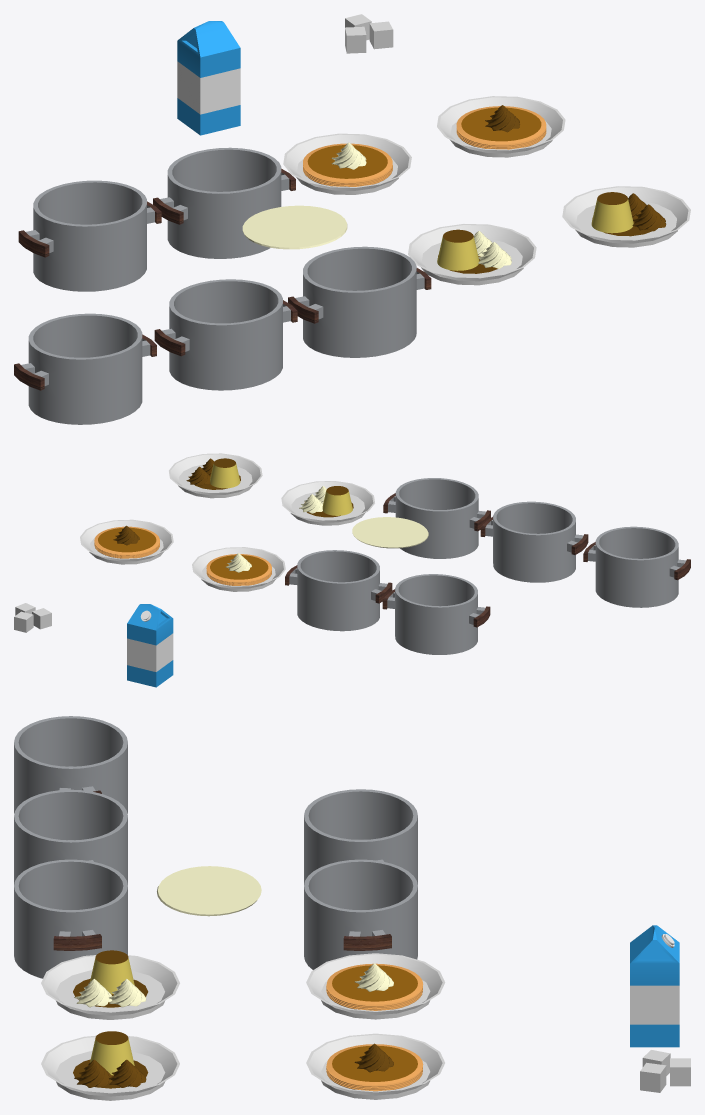
File: Sandia 1.fbx
The picture shows the model from 3 angles, top to bottom: view 1: azimuth 30°, elevation 25°; view 2: azimuth 150°, elevation 25°; view 3: azimuth 270°, elevation 25°; orthographic projection. The views are drawn at different scales.
Parts seen in each view (by area): view 1: Olla.004, Olla.003, Olla.007, Olla.002, Olla.006, Leche, Plato.001, Plato.002, FlanLiquidoCrudo.003, Plato.012, Plato.004, Panqueqaue.001 (+4 smaller); view 2: Olla.004, Olla.003, Olla.007, Olla.006, Olla.002, Leche, Plato.001, Plato.002, FlanLiquidoCrudo.003, Plato.004, Plato.012, Panqueqaue.001 (+4 smaller); view 3: Olla.002, Olla.006, Olla.004, Olla.007, Olla.003, Leche, Plato.001, Plato.002, FlanLiquidoCrudo.003, Plato.012, Plato.004, Panqueqaue (+10 smaller).
Part boxes in pixels (left/top/right/bottom): Olla.004: left=14, top=313, right=156, bottom=424; Olla.003: left=154, top=279, right=297, bottom=390; Olla.007: left=18, top=180, right=161, bottom=291; Olla.002: left=288, top=246, right=431, bottom=357; Olla.006: left=153, top=147, right=295, bottom=258; Leche: left=177, top=21, right=240, bottom=135; Plato.001: left=562, top=186, right=690, bottom=247; Plato.002: left=408, top=224, right=536, bottom=285; FlanLiquidoCrudo.003: left=242, top=205, right=347, bottom=249; Plato.012: left=437, top=96, right=565, bottom=157; Plato.004: left=283, top=133, right=411, bottom=194; Panqueqaue.001: left=456, top=106, right=546, bottom=149; Olla.004: left=583, top=526, right=690, bottom=607; Olla.003: left=480, top=501, right=588, bottom=582; Olla.007: left=382, top=574, right=490, bottom=654; Olla.006: left=285, top=550, right=392, bottom=631; Olla.002: left=383, top=478, right=490, bottom=558; Leche: left=127, top=604, right=173, bottom=687; Plato.001: left=169, top=453, right=262, bottom=498; Plato.002: left=281, top=481, right=374, bottom=525; FlanLiquidoCrudo.003: left=352, top=517, right=428, bottom=548; Plato.004: left=192, top=547, right=285, bottom=591; Plato.012: left=80, top=519, right=173, bottom=564; Panqueqaue.001: left=94, top=526, right=159, bottom=558; Olla.002: left=14, top=859, right=127, bottom=978; Olla.006: left=304, top=859, right=417, bottom=969; Olla.004: left=14, top=716, right=127, bottom=813; Olla.007: left=304, top=789, right=417, bottom=884; Olla.003: left=14, top=789, right=127, bottom=884; Leche: left=630, top=925, right=679, bottom=1047; Plato.001: left=41, top=1035, right=179, bottom=1100; Plato.002: left=41, top=955, right=179, bottom=1019; FlanLiquidoCrudo.003: left=157, top=866, right=261, bottom=916; Plato.012: left=306, top=1033, right=444, bottom=1099; Plato.004: left=306, top=953, right=445, bottom=1019; Panqueqaue: left=326, top=963, right=423, bottom=1010.
Size of the model in its own units: 1745 by 248 by 1402.
Materials: 12 (1 with a texture image).
